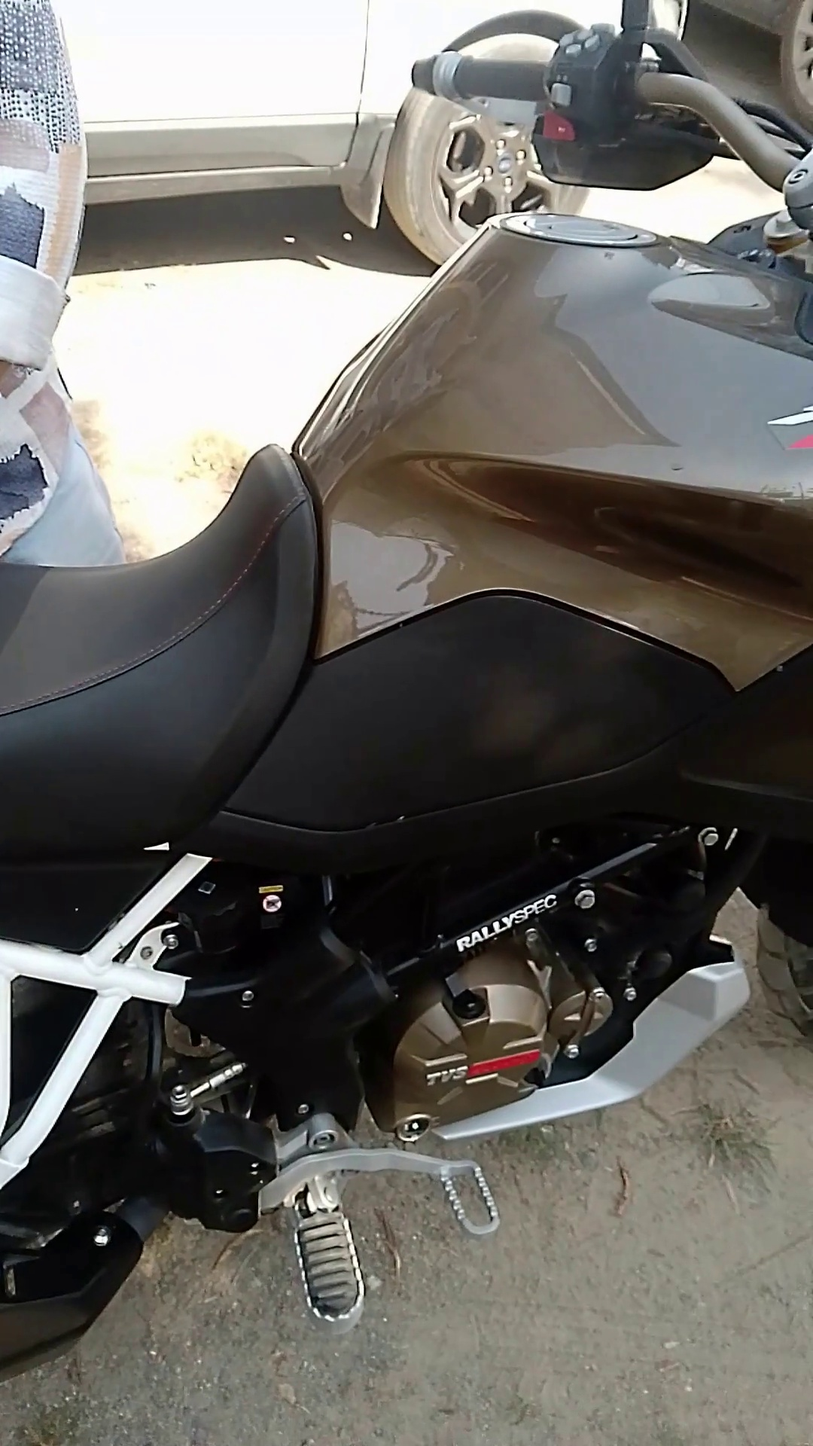bike-engine: (364, 946, 620, 1143)
bike-engine-level: (394, 1105, 435, 1142)
bike-oil-cap: (523, 1060, 551, 1088)
